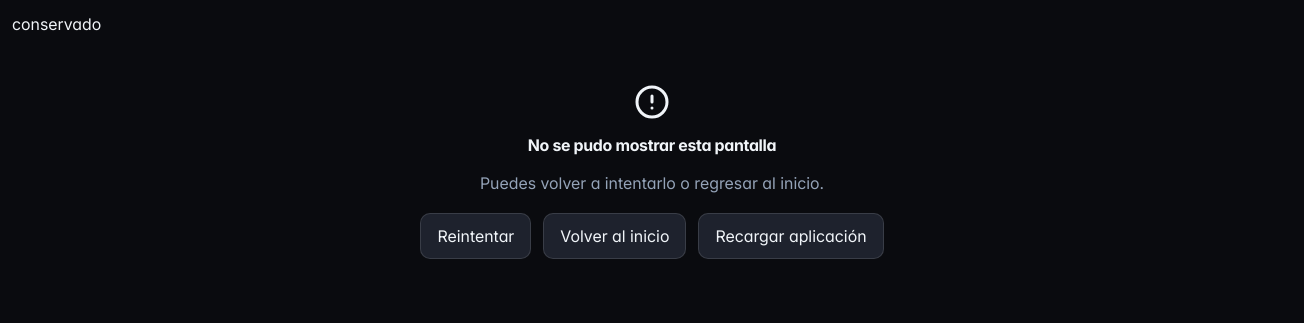
Scenario: retries a failed screen while keeping the surrounding app mounted
Click the button "Reintentar": x=476, y=236 x1=420 y1=213 x2=531 y2=259
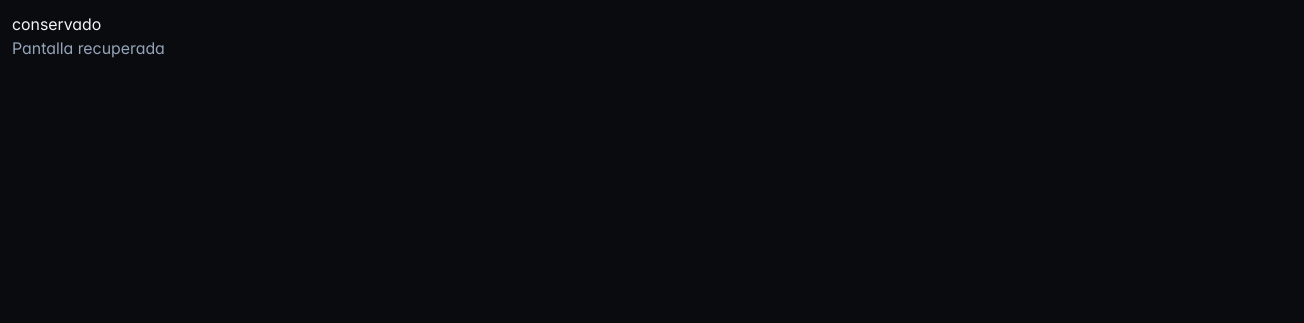
expect the field named "Estado de navegación" holds "conservado": met, box x1=12 y1=12 x2=1292 y2=36
expect the text "Pantalla recuperada" is shown: met, box x1=12 y1=38 x2=165 y2=58
